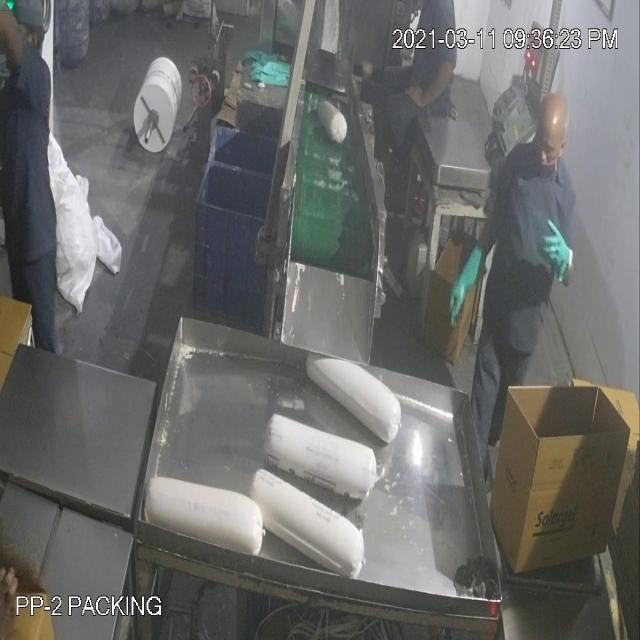No_Gloves: (39, 55, 554, 288)
